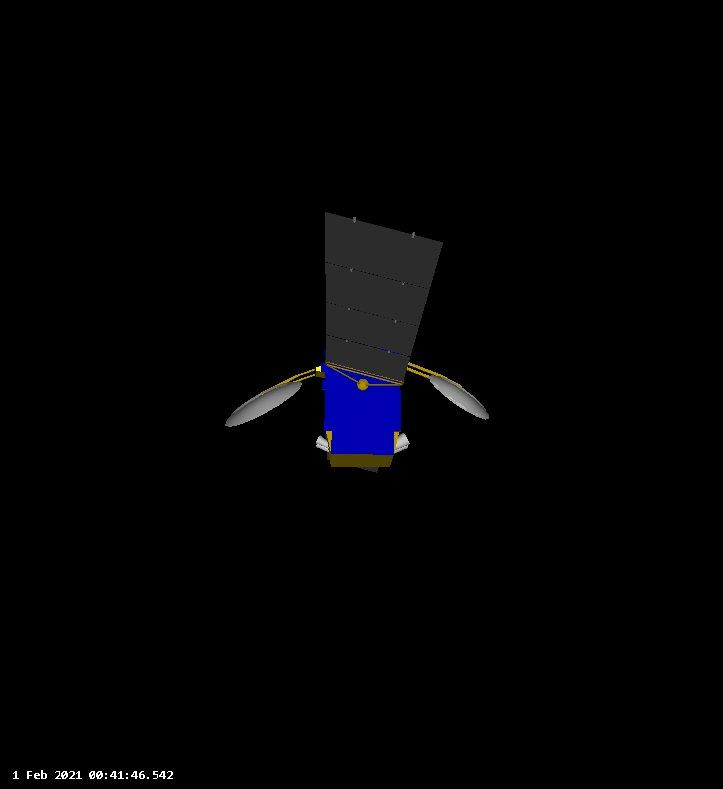antenna: (221, 378, 307, 430), (426, 371, 492, 423)
body: (315, 348, 412, 475)
solar: (322, 208, 446, 386)
thruster: (312, 431, 331, 459), (393, 426, 412, 453)
